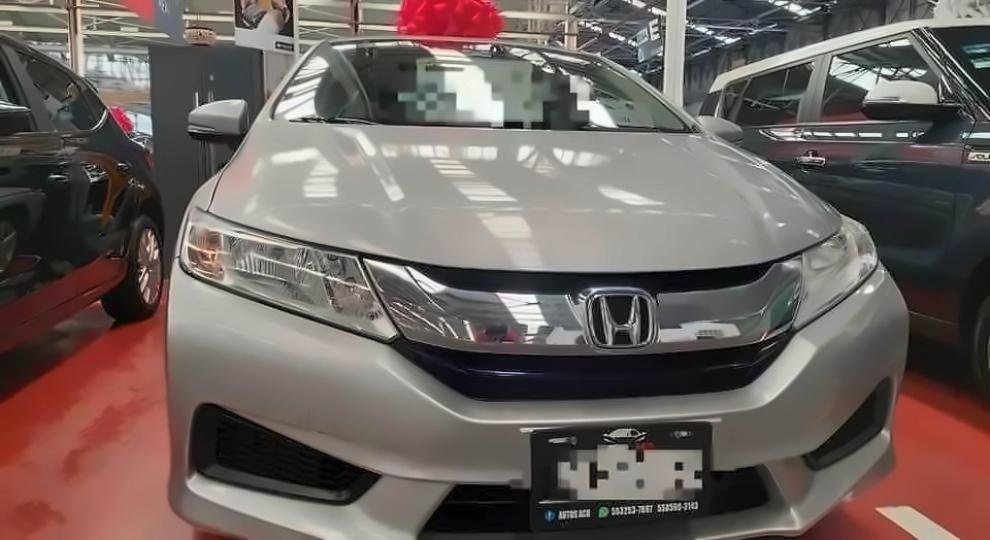Car hood: (204, 117, 849, 282)
Front bumper: (157, 274, 930, 540)
Headlight - -L-: (788, 208, 886, 348)
Headlight - -R-: (173, 205, 406, 359)
Side mirror - -L-: (696, 114, 745, 152)
Side mirror - -R-: (184, 97, 253, 148)
